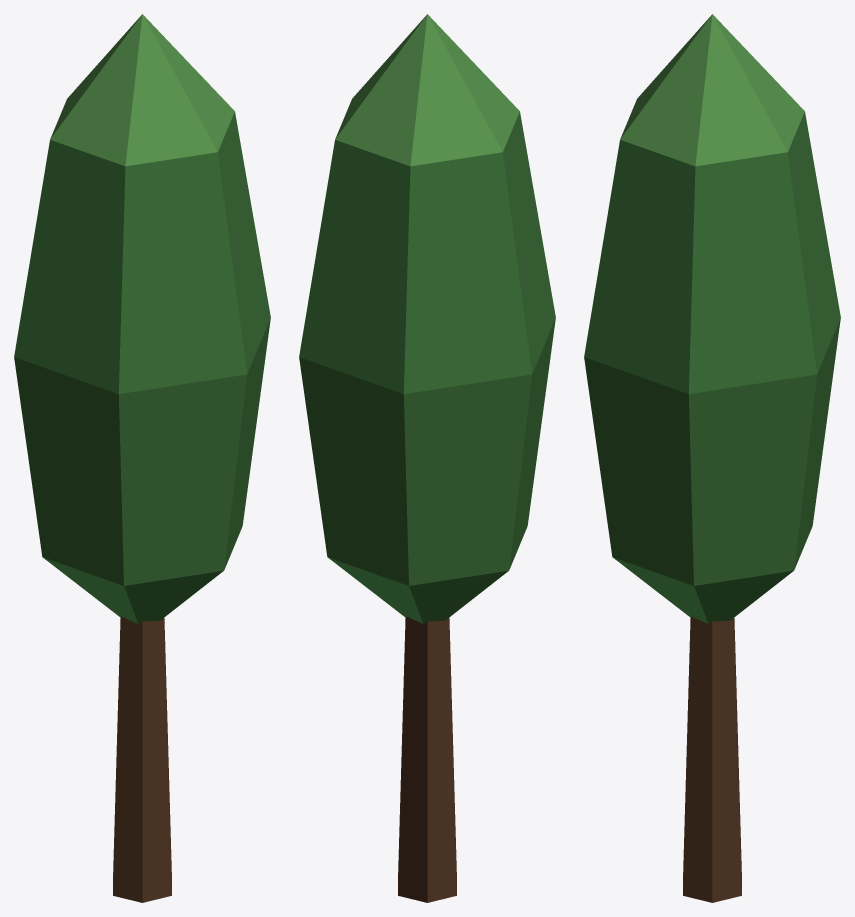
File: tree_simple_dark.glb
3 renders of one model, left to right at view 1: azimuth 30°, elevation 25°; view 2: azimuth 150°, elevation 25°; view 3: azimuth 270°, elevation 25°, orthographic.
Visible parts, largest first — view 1: tree_simple_dark; view 2: tree_simple_dark; view 3: tree_simple_dark.
Boxes of the visible parts, x1,y1,x2,y2 form: tree_simple_dark: (14, 14, 270, 902); tree_simple_dark: (299, 14, 555, 902); tree_simple_dark: (584, 14, 840, 902).
Bounding box in the file's own units: 0.3546 × 1.27 × 0.3382.
Materials: 1 (1 with a texture image).
